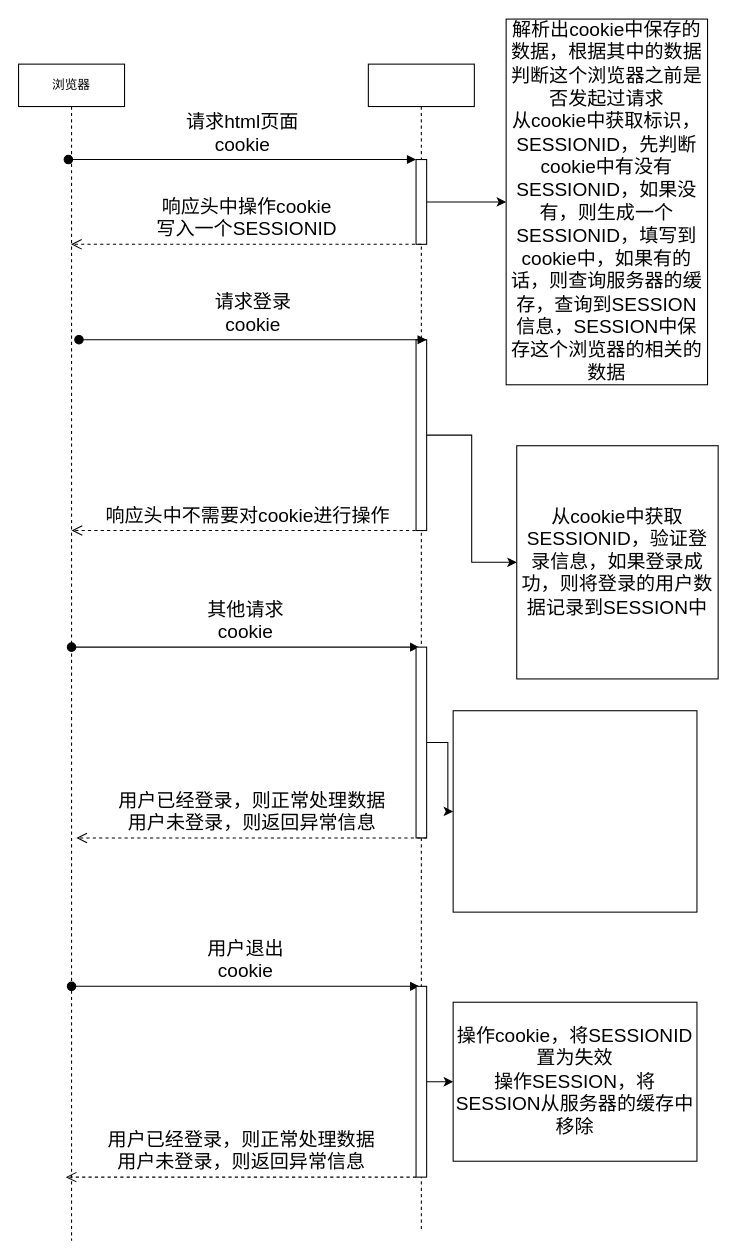
Image size: 737x1259. Some labels were removed from this diagram. Here are the shapes that lost their labels. From the top down, the centre of each, then its label:
(x=420, y=646): 服务器
(x=574, y=811): 如果请求的地址需要用户登录后才可以提供相应，则从cookie中的SESSIONID从服务器中找到对应的SESSION，查看SESSION中是否包含用户的登录数据
